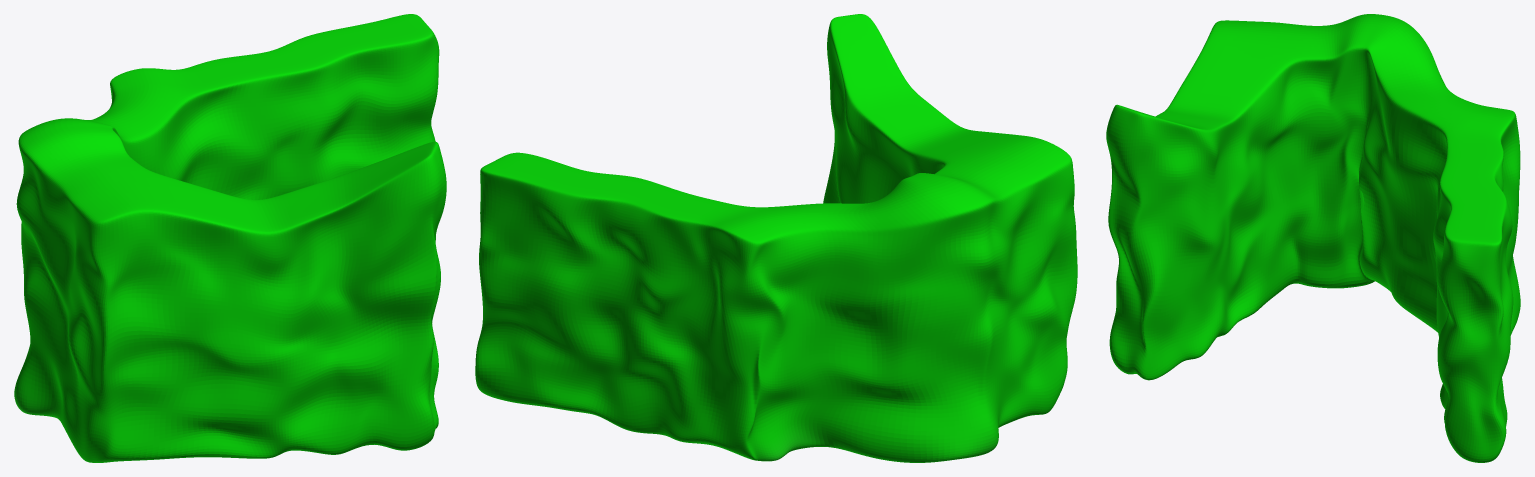
File: level_one_rock_wall_7.fbx
3 views of the same model, side by side, from view 1: azimuth 30°, elevation 25°; view 2: azimuth 150°, elevation 25°; view 3: azimuth 270°, elevation 25° (orthographic). The views are drawn at different scales.
Visible parts, largest first — view 1: RockWall07; view 2: RockWall07; view 3: RockWall07.
Part boxes in pixels (<box>): RockWall07: <box>14,14,446,462</box>; RockWall07: <box>475,14,1077,462</box>; RockWall07: <box>1106,14,1520,462</box>.
Bounding box in the file's own units: 4564 × 2718 × 3734.
